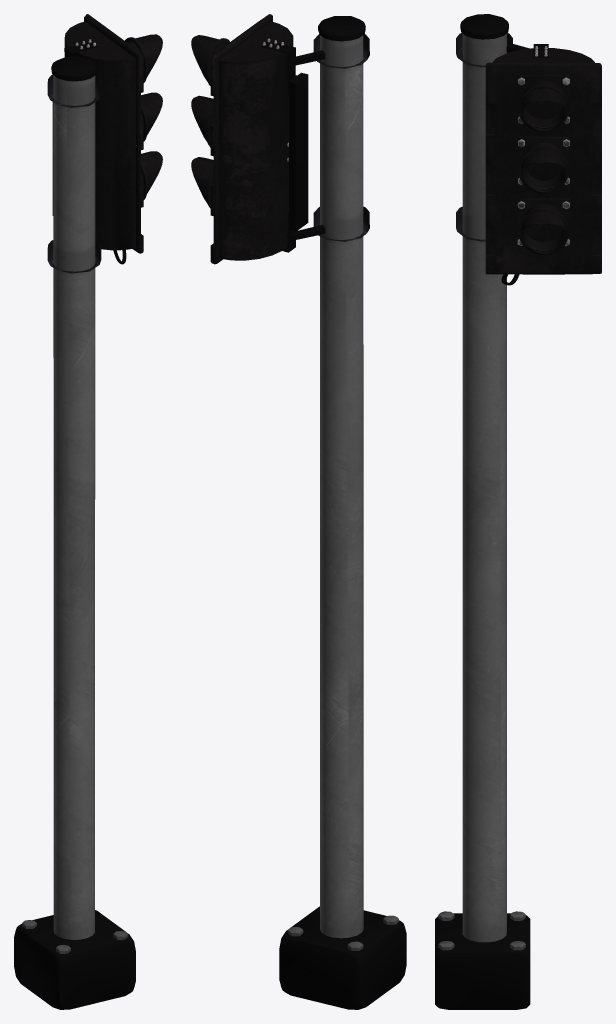
Rendered from Traffic Light - Simple.fbx.
3 renders of one model, left to right at view 1: azimuth 30°, elevation 25°; view 2: azimuth 150°, elevation 25°; view 3: azimuth 270°, elevation 25°, orthographic. The views are drawn at different scales.
Parts seen in each view (by area): view 1: Traffic Light; view 2: Traffic Light; view 3: Traffic Light.
Boxes of the visible parts, x1,y1,x2,y2 form: Traffic Light: (14,14,162,1009); Traffic Light: (191,14,406,1009); Traffic Light: (435,14,601,1009).
Size of the model in its own units: 88.31 by 510 by 79.73.
11 materials, 5 textured.
